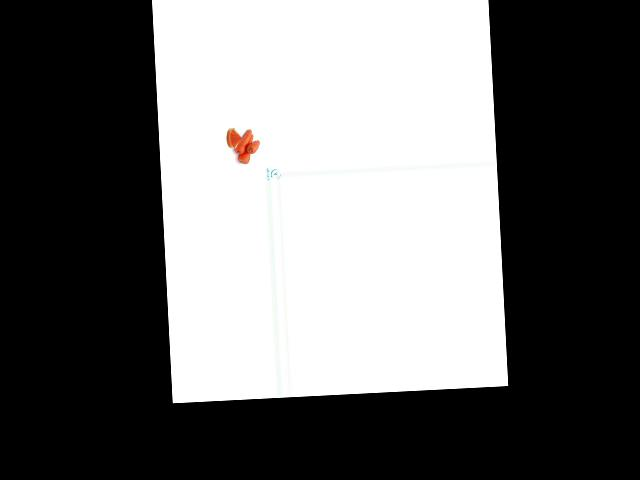carrot: (234, 127, 254, 154)
